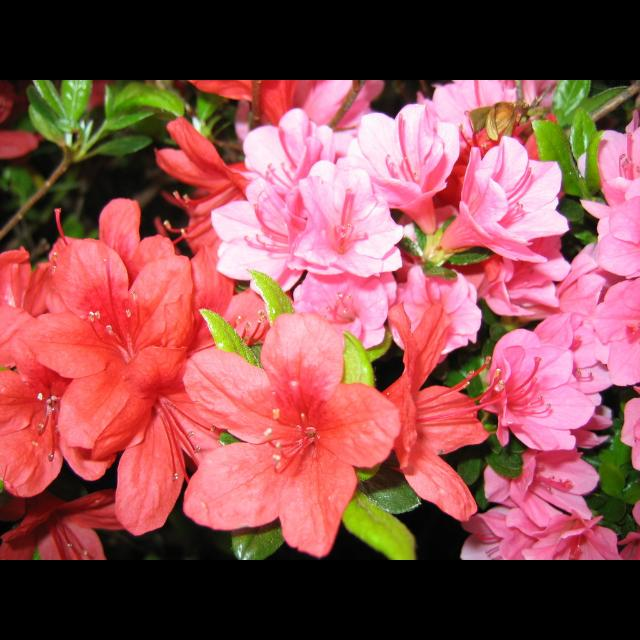Flower: (1, 80, 640, 560), (184, 311, 384, 525)
